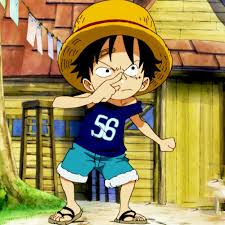Luffy: (74, 19, 163, 106)
